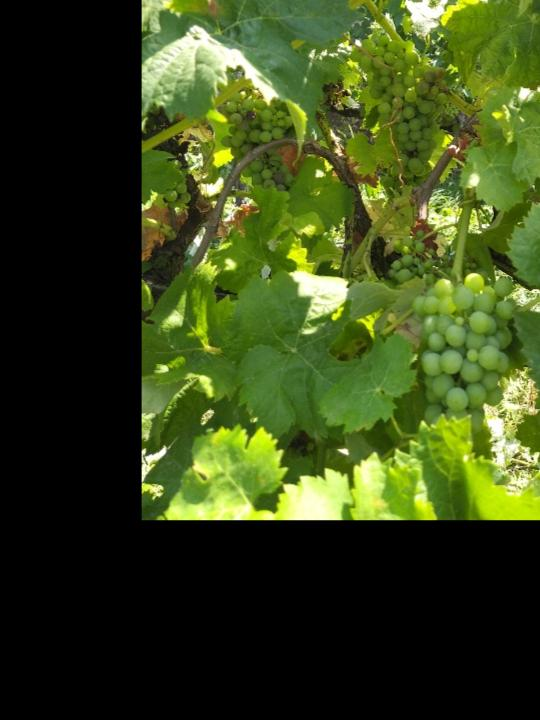grape: (409, 270, 518, 435), (348, 32, 451, 190), (220, 85, 297, 202)
